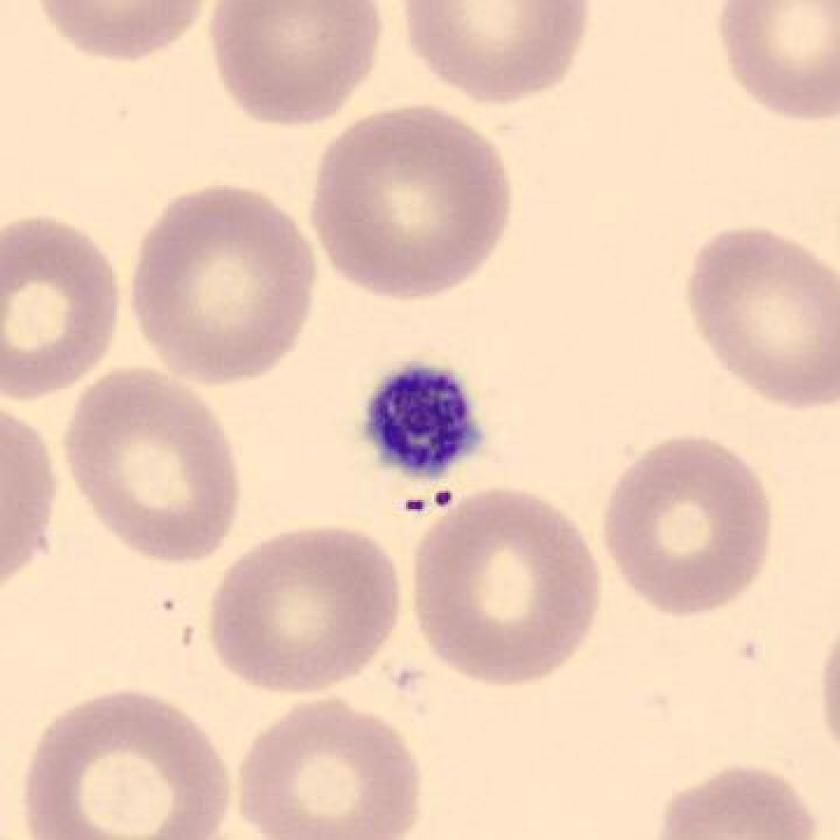platelets: (365, 358, 493, 492)
